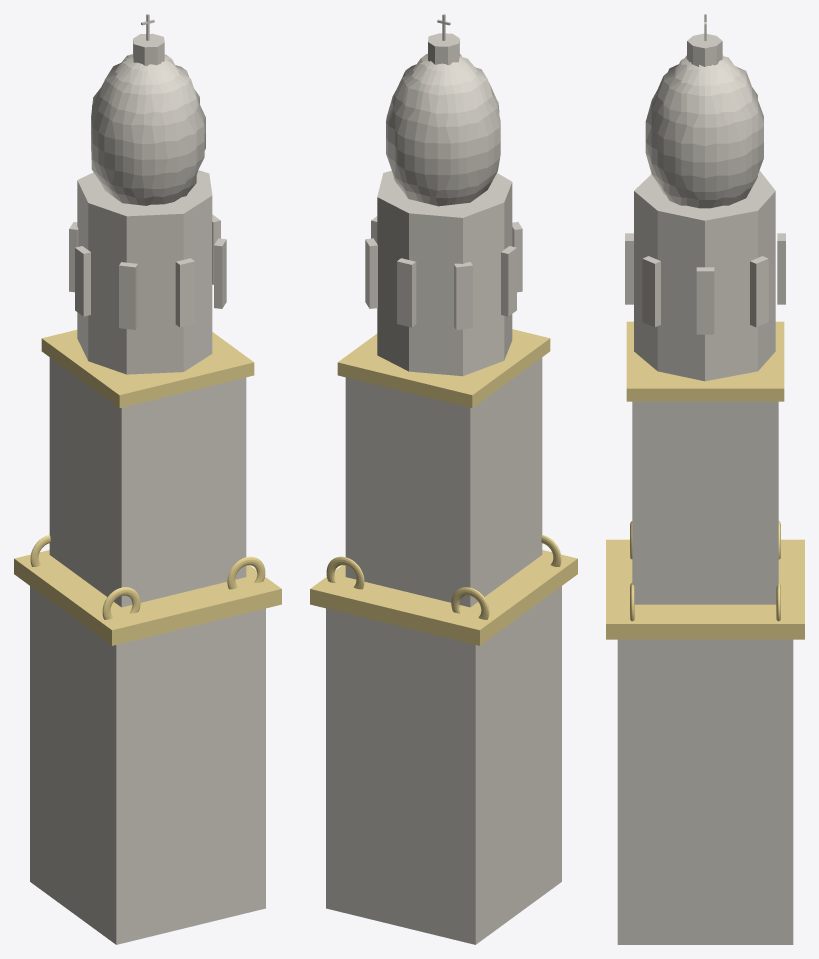
3 renders of one model, left to right at view 1: azimuth 30°, elevation 25°; view 2: azimuth 150°, elevation 25°; view 3: azimuth 270°, elevation 25°, orthographic.
Parts seen in each view (by area): view 1: Primo_Livello, Secondo_Livello, object 19, Cornicione_1, Cornicione_2, Finestra_Ottagonale_7, Finestra_Ottagonale_6, Finestra_Ottagonale_5, Finestra_Ottagonale_8, Voluta_2, Voluta_1; view 2: Primo_Livello, Secondo_Livello, object 19, Cornicione_1, Cornicione_2, Finestra_Ottagonale_3, Finestra_Ottagonale_4, Finestra_Ottagonale_5, Finestra_Ottagonale_2, Voluta_3, Voluta_4; view 3: Primo_Livello, object 19, Secondo_Livello, Cornicione_1, Cornicione_2, Finestra_Ottagonale_1, Finestra_Ottagonale_8, Finestra_Ottagonale_2, Finestra_Ottagonale_3, Finestra_Ottagonale_7.
Part boxes in pixels (x1,y1,x2,y2): Primo_Livello: [30, 586, 265, 944]; Secondo_Livello: [49, 357, 246, 607]; object 19: [77, 33, 212, 374]; Cornicione_1: [14, 550, 281, 645]; Cornicione_2: [41, 330, 254, 408]; Finestra_Ottagonale_7: [175, 258, 194, 327]; Finestra_Ottagonale_6: [119, 262, 137, 329]; Finestra_Ottagonale_5: [75, 246, 90, 316]; Finestra_Ottagonale_8: [214, 238, 226, 308]; Voluta_2: [227, 556, 265, 589]; Voluta_1: [102, 587, 140, 619]; Primo_Livello: [326, 586, 561, 944]; Secondo_Livello: [345, 357, 542, 607]; object 19: [377, 33, 512, 376]; Cornicione_1: [310, 550, 577, 645]; Cornicione_2: [337, 329, 550, 408]; Finestra_Ottagonale_3: [397, 258, 416, 327]; Finestra_Ottagonale_4: [454, 262, 472, 329]; Finestra_Ottagonale_5: [501, 246, 516, 316]; Finestra_Ottagonale_2: [365, 238, 377, 308]; Voluta_3: [326, 556, 364, 589]; Voluta_4: [451, 587, 489, 619]; Primo_Livello: [617, 639, 793, 944]; object 19: [634, 33, 775, 381]; Secondo_Livello: [632, 401, 778, 604]; Cornicione_1: [606, 539, 804, 639]; Cornicione_2: [626, 321, 784, 401]; Finestra_Ottagonale_1: [696, 267, 714, 334]; Finestra_Ottagonale_8: [642, 256, 660, 327]; Finestra_Ottagonale_2: [750, 256, 768, 327]; Finestra_Ottagonale_3: [777, 233, 785, 304]; Finestra_Ottagonale_7: [625, 233, 633, 304].
Bounding box in the file's own units: 3.4 × 16.85 × 3.4.
